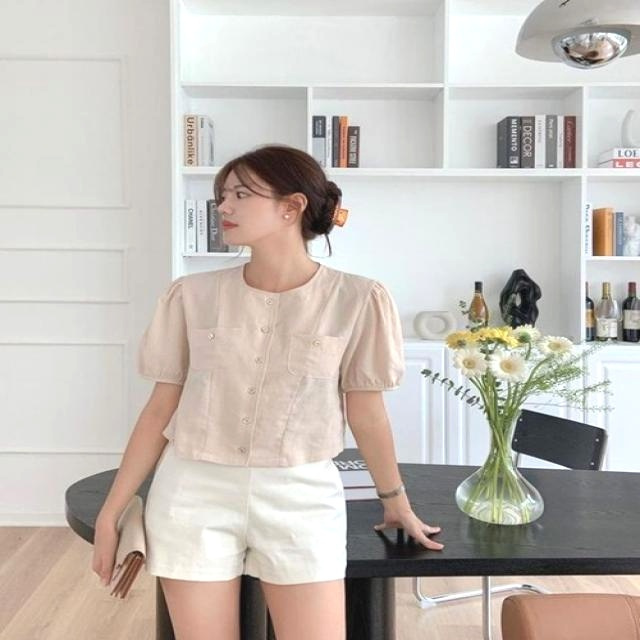Shorts: (141, 435, 348, 640)
